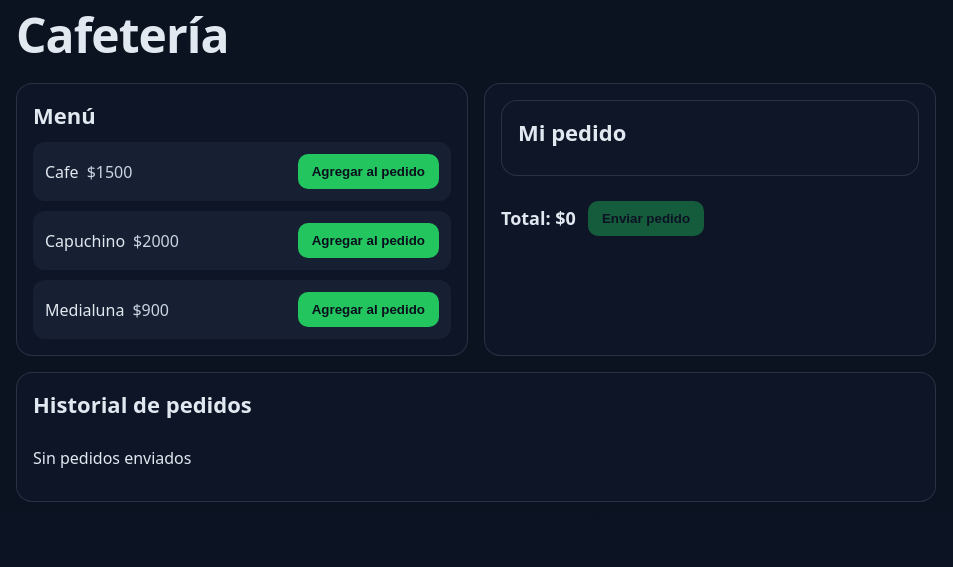
Test case: HU5 › envia pedido, confirma y limpia
Expected: the list item "Cafe$1500 Agregar al pedido" is shown, [33,142,451,201]
Click the button with aria-label "agregar-1": (368, 172) [298,154,439,189]
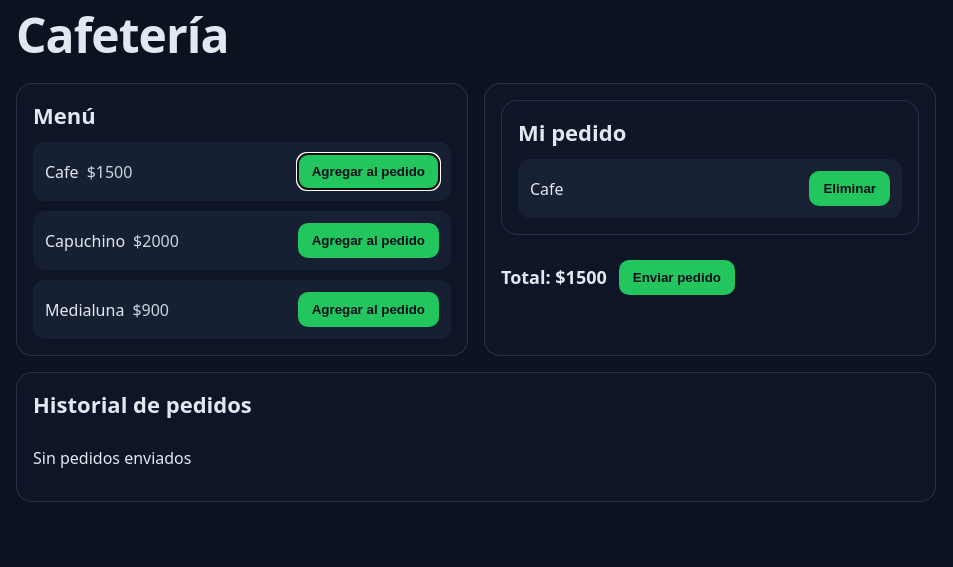
Click the button with aria-label "agregar-3": (368, 310) [298,292,439,327]
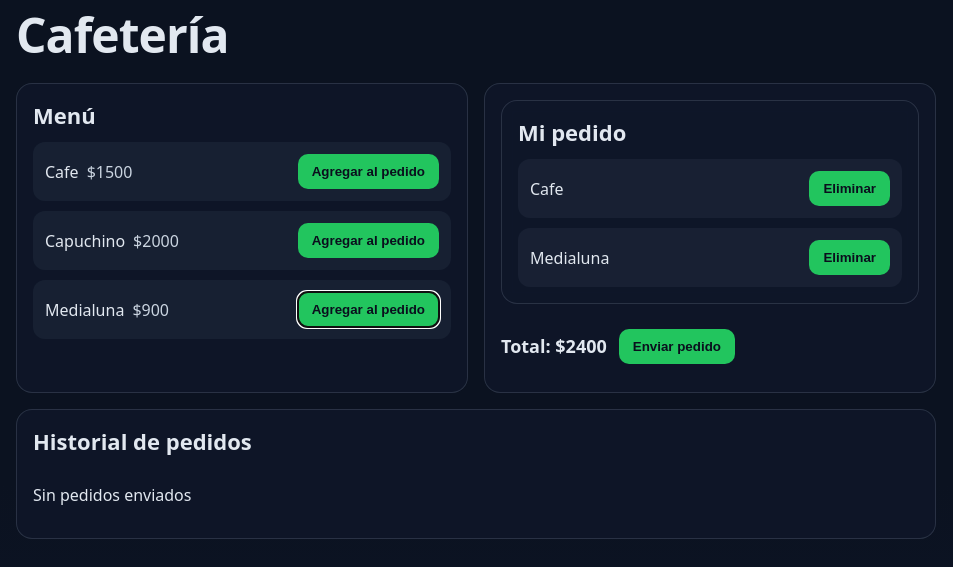
Click the button "Enviar pedido": (677, 346) [619,328,735,364]
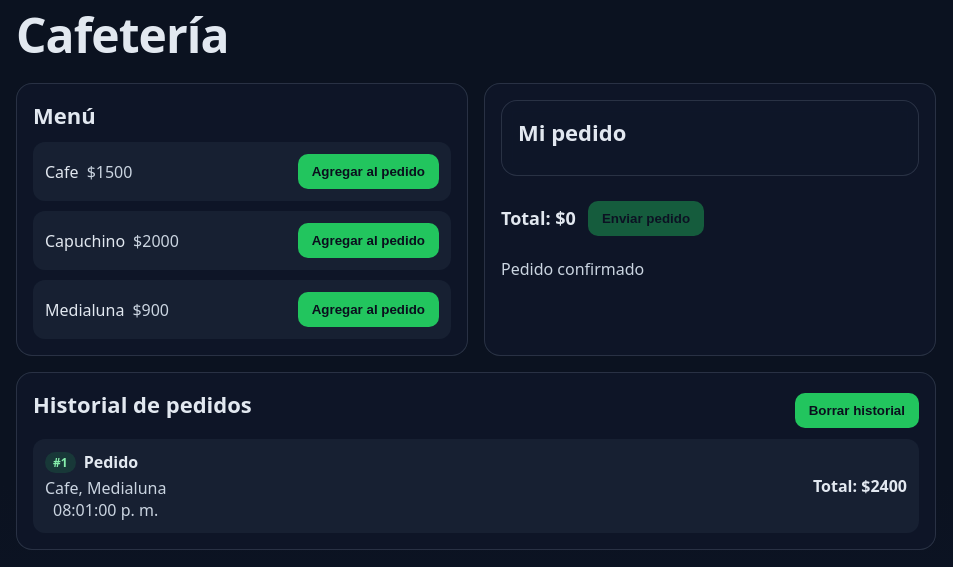
Now the text "Pedido confirmado" is shown, box [501,258,644,280]
Now the text "Total: $0" is shown, box [501,206,576,230]
